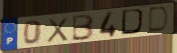0: (22, 19, 43, 46)
4: (97, 10, 118, 39)
B: (70, 13, 95, 42)
D: (120, 8, 148, 36), (147, 5, 171, 34)
X: (46, 16, 69, 45)
